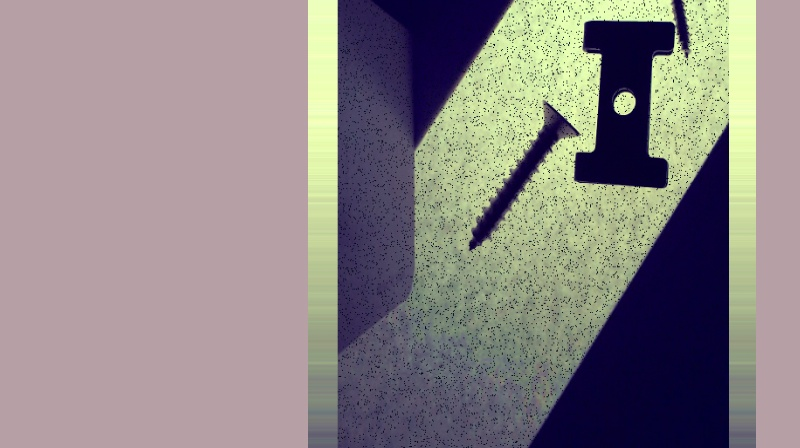O001: (637, 0, 702, 58)
O002: (575, 16, 674, 190)
S001: (465, 97, 580, 251)
